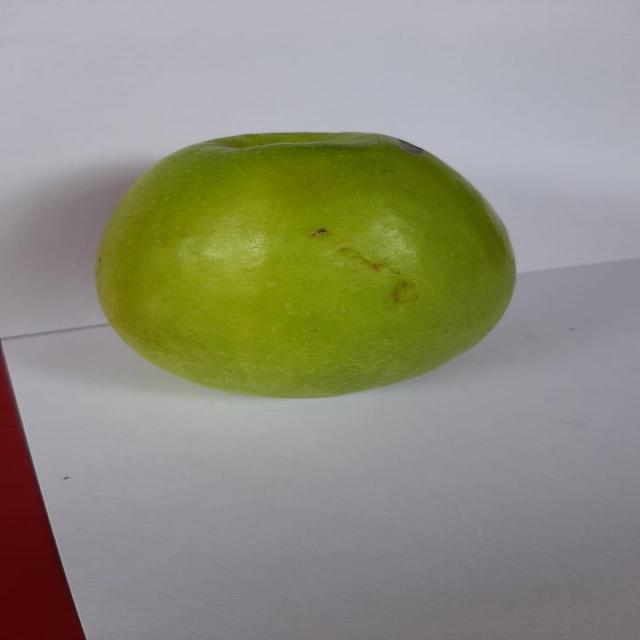Rotten Apple: (85, 123, 533, 405)
